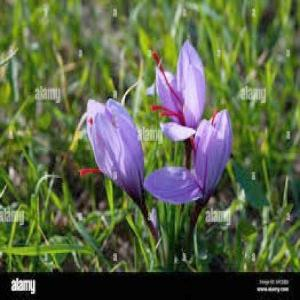Saffron: (88, 98, 150, 214), (158, 42, 206, 160), (192, 110, 232, 226)
